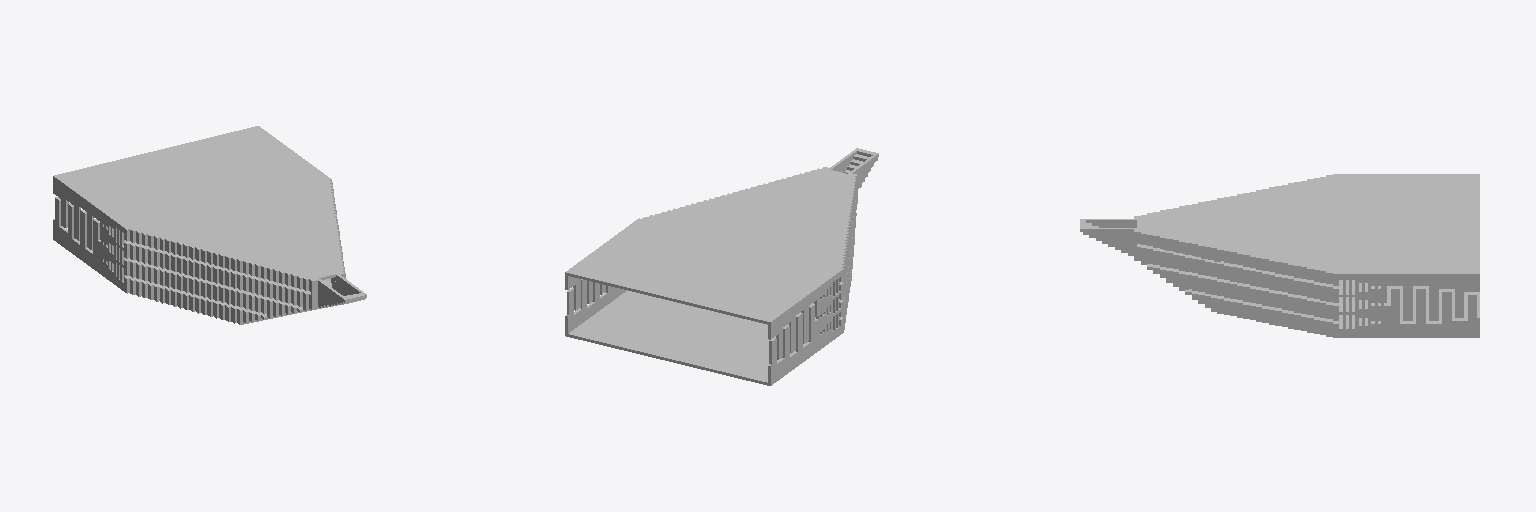
File: 04_cave_entrance_2X.obj
The picture shows the model from 3 angles: view 1: azimuth 30°, elevation 25°; view 2: azimuth 150°, elevation 25°; view 3: azimuth 270°, elevation 25°; orthographic projection.
Bounding box in the file's own units: 74 × 22 × 125.